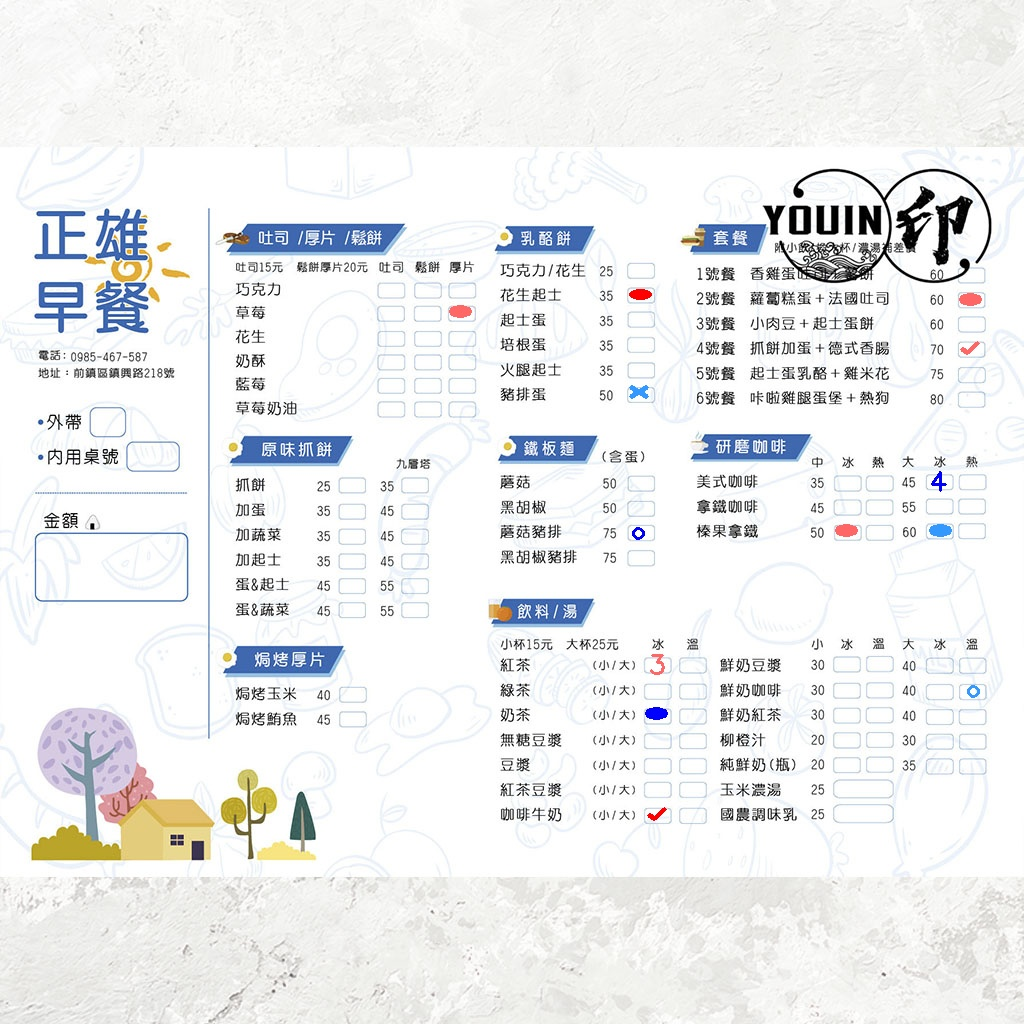marked_circle: (644, 807, 670, 821)
marked_number_2: (678, 686, 704, 700)
marked_number_3: (628, 288, 654, 302)
marked_number_5: (679, 732, 705, 746)
marked_number_6: (926, 657, 952, 671)
marked_number_9: (627, 474, 653, 488)
marked_tick: (958, 391, 984, 405), (448, 378, 474, 392)
